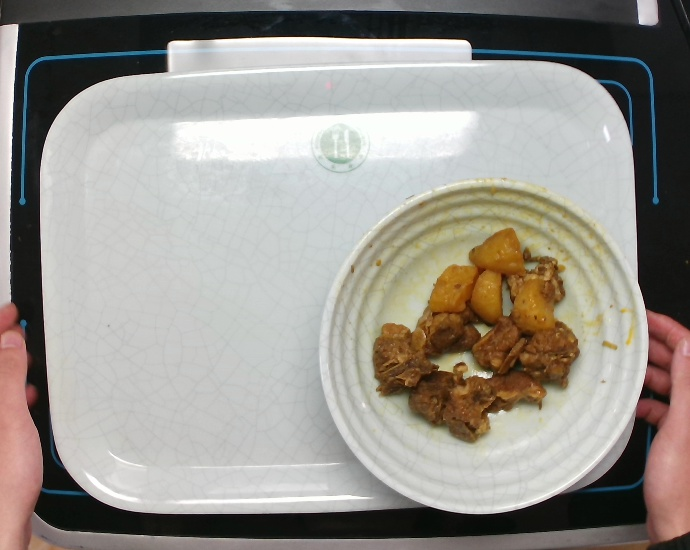JYsf-Da_Tang_Wan: (314, 177, 650, 518)
